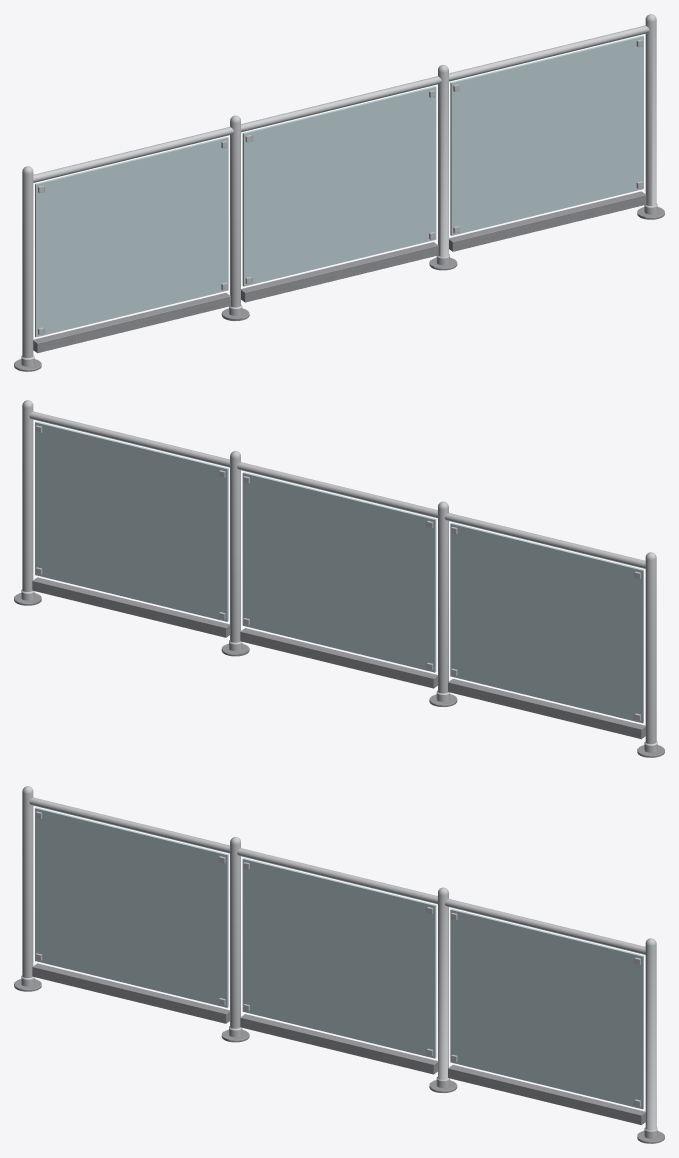
The model's file is gteki_barrier_rail_3600_glass.glb.
The picture shows the model from 3 angles, top to bottom: view 1: azimuth 30°, elevation 25°; view 2: azimuth 150°, elevation 25°; view 3: azimuth 330°, elevation 25°; orthographic projection.
Visible parts, largest first — view 1: VIS_glass, VIS_rails, VIS_posts; view 2: VIS_glass, VIS_rails, VIS_posts; view 3: VIS_glass, VIS_rails, VIS_posts.
Boxes of the visible parts, left/top/right/bottom form: VIS_glass: left=35, top=35, right=643, bottom=337; VIS_rails: left=33, top=25, right=649, bottom=353; VIS_posts: left=14, top=14, right=664, bottom=371; VIS_glass: left=35, top=421, right=643, bottom=723; VIS_rails: left=29, top=411, right=645, bottom=739; VIS_posts: left=14, top=400, right=664, bottom=757; VIS_glass: left=35, top=807, right=643, bottom=1109; VIS_rails: left=29, top=797, right=645, bottom=1125; VIS_posts: left=14, top=786, right=664, bottom=1143.
Size of what is drawn, in the model's own units: 3.74 by 1.1 by 0.14.
Materials: 3 (1 with a texture image).
